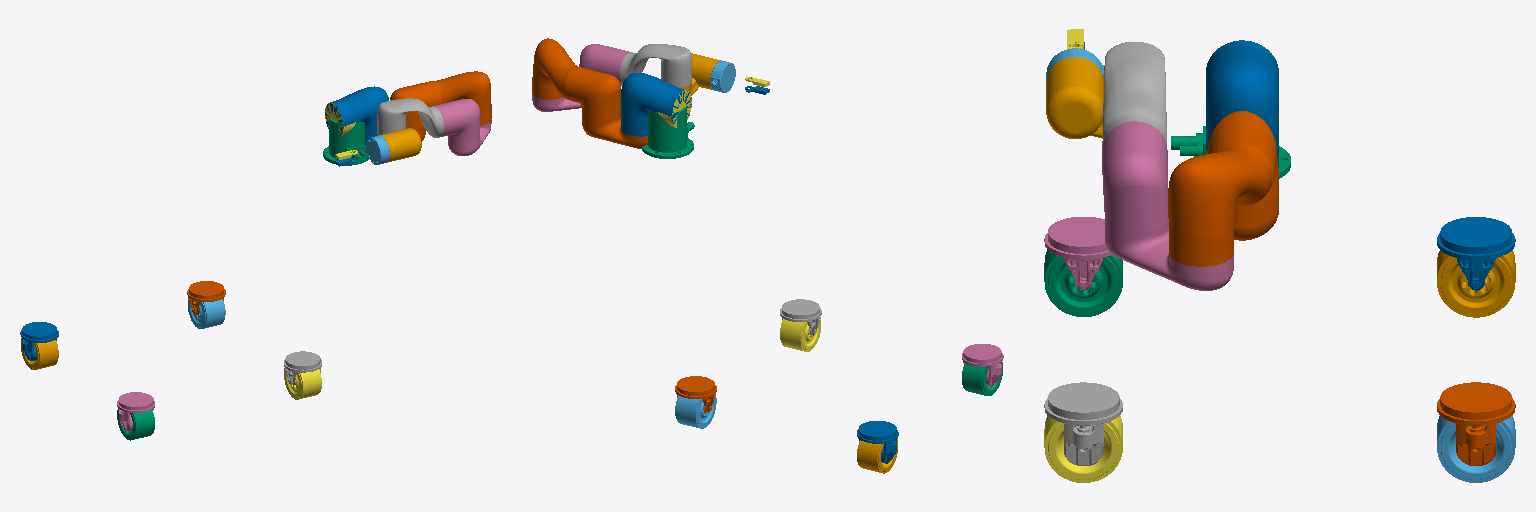
robot.urdf — mobile_base:
<?xml version="1.0"?>
<robot name="mobile_base">
  <link name="world"/>

  <joint name="world_to_base" type="fixed">
    <parent link="world"/>
    <child link="base_link"/>
    <origin xyz="0 0 0" rpy="0 3.14159265358979 0"/>
  </joint>

  <!-- =======================
       BASE + SHOULDER (fixed)
       ======================= -->
  <link name="base_link">
    <visual>
      <geometry>
        <mesh filename="package://new_base/meshes/custom_meshes/Chassis_1.stl" scale="1 1 1"/>
      </geometry>
    </visual>

    <collision>
      <origin xyz="0.0 0.0 0.35" rpy="0 0 0"/>
      <geometry><box size="0.5 0.4 0.7"/></geometry>
    </collision>

    <inertial>
      <origin xyz="0 0 0" rpy="0 0 0"/>
      <mass value="25.0"/> <inertia ixx="0.8" iyy="0.8" izz="0.8" ixy="0" ixz="0" iyz="0"/>
    </inertial>
  </link>

  <link name="arm_shoulder_4_2">
    <visual>
      <geometry>
        <mesh filename="package://new_base/meshes/custom_meshes/arm_shoulder_4_2.stl" scale="1 1 1"/>
      </geometry>
    </visual>

    <collision>
      <origin xyz="0.0 0.0 0.0" rpy="0 0 0"/>
      <geometry><box size="0.3 0.25 0.3"/></geometry>
    </collision>

    <inertial>
      <origin xyz="0 0 0" rpy="0 0 0"/>
      <mass value="5.0"/>
      <inertia ixx="0.1" iyy="0.1" izz="0.1" ixy="0" ixz="0" iyz="0"/>
    </inertial>
  </link>

    
  <link name="arm_shoulder_4_1">
    <visual>
      <geometry>
        <mesh filename="package://new_base/meshes/custom_meshes/arm_shoulder_4_1.stl" scale="1 1 1"/>
      </geometry>
    </visual>
    <collision>
      <origin xyz="0 0 0" rpy="0 0 0"/>
      <geometry>
        <box size="0.10 0.10 0.12"/>
      </geometry>
    </collision>
    <inertial>
      <origin xyz="0 0 0" rpy="0 0 0"/>
      <mass value="0.5"/>
      <inertia ixx="1e-3" iyy="1e-3" izz="1e-3" ixy="0" ixz="0" iyz="0"/>
    </inertial>
  </link>


  <!-- =======================
       AZIMUTH MODULES
       ======================= -->
  <link name="Az_Front_right_1">
    <visual>
      <geometry>
        <mesh filename="package://new_base/meshes/custom_meshes/Az_Front_right_1.stl" scale="1 1 1"/>
      </geometry>
    </visual>
    <collision>
      <origin xyz="0 0 0" rpy="0 0 0"/>
      <geometry><cylinder length="0.06" radius="0.05"/></geometry>
    </collision>
    <inertial>
      <origin xyz="0 0 0" rpy="0 0 0"/>
      <mass value="0.6"/>
      <inertia ixx="0.0003" iyy="0.0003" izz="0.0003" ixy="0" ixz="0" iyz="0"/>
    </inertial>
  </link>

  <link name="Az_Front_Left_1">
    <visual>
      <geometry>
        <mesh filename="../meshes/custom_meshes/Az_Front_Left_1.stl" scale="1 1 1"/>
      </geometry>
    </visual>
    <collision>
      <origin xyz="0 0 0" rpy="0 0 0"/>
      <geometry><cylinder length="0.06" radius="0.05"/></geometry>
    </collision>
    <inertial>
      <origin xyz="0 0 0" rpy="0 0 0"/>
      <mass value="0.6"/>
      <inertia ixx="0.0003" iyy="0.0003" izz="0.0003" ixy="0" ixz="0" iyz="0"/>
    </inertial>
  </link>

  <link name="Az_Back_Right_1">
    <visual>
      <geometry>
        <mesh filename="../meshes/custom_meshes/Az_Back_Right_1.stl" scale="1 1 1"/>
      </geometry>
    </visual>
    <collision>
      <origin xyz="0 0 0" rpy="0 0 0"/>
      <geometry><cylinder length="0.06" radius="0.05"/></geometry>
    </collision>
    <inertial>
      <origin xyz="0 0 0" rpy="0 0 0"/>
      <mass value="0.6"/>
      <inertia ixx="0.0003" iyy="0.0003" izz="0.0003" ixy="0" ixz="0" iyz="0"/>
    </inertial>
  </link>

  <link name="Az_Back_left_1">
    <visual>
      <geometry>
        <mesh filename="package://new_base/meshes/custom_meshes/Az_Back_left_1.stl" scale="1 1 1"/>
      </geometry>
    </visual>
    <collision>
      <origin xyz="0 0 0" rpy="0 0 0"/>
      <geometry><cylinder length="0.06" radius="0.05"/></geometry>
    </collision>
    <inertial>
      <origin xyz="0 0 0" rpy="0 0 0"/>
      <mass value="0.6"/>
      <inertia ixx="0.0003" iyy="0.0003" izz="0.0003" ixy="0" ixz="0" iyz="0"/>
    </inertial>
  </link>

  <!-- =======================
       WHEELS
       ======================= -->
  <link name="Wheel_Front_Right_1">
    <visual>
      <geometry>
        <mesh filename="../meshes/custom_meshes/Wheel_Front_Right_1.stl" scale="1 1 1"/>
      </geometry>
    </visual>
    <collision>
      <!-- Cylinder default axis is Z; rotate so spin axis is Y -->
      <origin xyz="0 0 0" rpy="1.5707963 0 0"/>
      <geometry><cylinder radius="0.06" length="0.04"/></geometry>
    </collision>
    <inertial>
      <origin xyz="0 0 0" rpy="0 0 0"/>
      <mass value="0.4"/>
      <inertia ixx="0.0002" iyy="0.0001" izz="0.0002" ixy="0" ixz="0" iyz="0"/>
    </inertial>
  </link>

  <link name="Wheel_Front_Left_1">
    <visual>
      <geometry>
        <mesh filename="../meshes/custom_meshes/Wheel_Front_Left_1.stl" scale="1 1 1"/>
      </geometry>
    </visual>
    <collision>
      <origin xyz="0 0 0" rpy="1.5707963 0 0"/>
      <geometry><cylinder radius="0.06" length="0.04"/></geometry>
    </collision>
    <inertial>
      <origin xyz="0 0 0" rpy="0 0 0"/>
      <mass value="0.4"/>
      <inertia ixx="0.0002" iyy="0.0001" izz="0.0002" ixy="0" ixz="0" iyz="0"/>
    </inertial>
  </link>

  <link name="Wheel_Back_Right_1">
    <visual>
      <geometry>
        <mesh filename="../meshes/custom_meshes/Wheel_Back_Right_1.stl" scale="1 1 1"/>
      </geometry>
    </visual>
    <collision>
      <origin xyz="0 0 0" rpy="1.5707963 0 0"/>
      <geometry><cylinder radius="0.06" length="0.04"/></geometry>
    </collision>
    <inertial>
      <origin xyz="0 0 0" rpy="0 0 0"/>
      <mass value="0.4"/>
      <inertia ixx="0.0002" iyy="0.0001" izz="0.0002" ixy="0" ixz="0" iyz="0"/>
    </inertial>
  </link>

  <link name="Wheel_Back_Left_1">
    <visual>
      <geometry>
        <mesh filename="../meshes/custom_meshes/Wheel_Back_Left_1.stl" scale="1 1 1"/>
      </geometry>
    </visual>
    <collision>
      <origin xyz="0 0 0" rpy="1.5707963 0 0"/>
      <geometry><cylinder radius="0.06" length="0.04"/></geometry>
    </collision>
    <inertial>
      <origin xyz="0 0 0" rpy="0 0 0"/>
      <mass value="0.4"/>
      <inertia ixx="0.0002" iyy="0.0001" izz="0.0002" ixy="0" ixz="0" iyz="0"/>
    </inertial>
  </link>

  <!-- =======================
       ARM CHAIN
       ======================= -->
  <link name="arm_shoulder241_1">
    <visual>
      <geometry>
        <mesh filename="../meshes/custom_meshes/arm_shoulder241_1.stl" scale="1 1 1"/>
      </geometry>
    </visual>
    <collision>
      <geometry><box size="0.08 0.08 0.12"/></geometry>
    </collision>
    <inertial>
      <origin xyz="0 0 0" rpy="0 0 0"/>
      <mass value="1.0"/>
      <inertia ixx="0.005" iyy="0.005" izz="0.005" ixy="0" ixz="0" iyz="0"/>
    </inertial>
  </link>

  <link name="arm_elbow_4_1">
    <visual>
      <geometry>
        <mesh filename="../meshes/custom_meshes/arm_elbow_4_1.stl" scale="1 1 1"/>
      </geometry>
    </visual>
    <collision>
      <geometry><box size="0.06 0.05 0.12"/></geometry>
    </collision>
    <inertial>
      <origin xyz="0 0 0" rpy="0 0 0"/>
      <mass value="0.8"/>
      <inertia ixx="0.0006" iyy="0.0006" izz="0.0006" ixy="0" ixz="0" iyz="0"/>
    </inertial>
  </link>

  <link name="elbow2_p4_1">
    <visual>
      <geometry>
        <mesh filename="package://new_base/meshes/custom_meshes/elbow2_p4_1.stl" scale="1 1 1"/>
      </geometry>
    </visual>
    <collision>
      <geometry><box size="0.06 0.05 0.12"/></geometry>
    </collision>
    <inertial>
      <origin xyz="0 0 0" rpy="0 0 0"/>
      <mass value="0.8"/>
      <inertia ixx="0.0006" iyy="0.0006" izz="0.0006" ixy="0" ixz="0" iyz="0"/>
    </inertial>
  </link>

  <link name="wrist_1_p4_1">
    <visual>
      <geometry>
        <mesh filename="package://new_base/meshes/custom_meshes/wrist_1_p4_1.stl" scale="1 1 1"/>
      </geometry>
    </visual>
    <collision>
      <geometry><box size="0.05 0.05 0.08"/></geometry>
    </collision>
    <inertial>
      <origin xyz="0 0 0" rpy="0 0 0"/>
      <mass value="0.5"/>
      <inertia ixx="0.0003" iyy="0.0003" izz="0.0003" ixy="0" ixz="0" iyz="0"/>
    </inertial>
  </link>

  <link name="wrist_2_p4_1">
    <visual>
      <geometry>
        <mesh filename="package://new_base/meshes/custom_meshes/wrist_2_p4_1.stl" scale="1 1 1"/>
      </geometry>
    </visual>
    <collision>
      <geometry><box size="0.05 0.05 0.08"/></geometry>
    </collision>
    <inertial>
      <origin xyz="0 0 0" rpy="0 0 0"/>
      <mass value="0.5"/>
      <inertia ixx="0.0003" iyy="0.0003" izz="0.0003" ixy="0" ixz="0" iyz="0"/>
    </inertial>
  </link>

  <link name="end_effector_p4_1">
    <visual>
      <geometry>
        <mesh filename="package://new_base/meshes/custom_meshes/end_effector_p4_1.stl" scale="1 1 1"/>
      </geometry>
    </visual>
    <collision>
      <geometry><box size="0.05 0.05 0.08"/></geometry>
    </collision>
    <inertial>
      <origin xyz="0 0 0" rpy="0 0 0"/>
      <mass value="0.4"/>
      <inertia ixx="0.0002" iyy="0.0002" izz="0.0002" ixy="0" ixz="0" iyz="0"/>
    </inertial>
  </link>

  <link name="gripper_v43_1">
    <visual>
      <geometry>
        <mesh filename="package://new_base/meshes/custom_meshes/gripper_v43_1.stl" scale="1 1 1"/>
      </geometry>
    </visual>
    <collision>
      <geometry><box size="0.05 0.05 0.08"/></geometry>
    </collision>
    <inertial>
      <origin xyz="0 0 0" rpy="0 0 0"/>
      <mass value="0.5"/>
      <inertia ixx="0.00025" iyy="0.00025" izz="0.00025" ixy="0" ixz="0" iyz="0"/>
    </inertial>
  </link>

  <link name="Finger_left_2">
    <visual>
      <geometry>
        <mesh filename="package://new_base/meshes/custom_meshes/Finger_left_2.stl" scale="1 1 1"/>
      </geometry>
    </visual>
    <collision>
      <geometry><box size="0.012 0.02 0.06"/></geometry>
    </collision>
    <inertial>
      <origin xyz="0 0 0" rpy="0 0 0"/>
      <mass value="0.05"/>
      <inertia ixx="1e-5" iyy="1e-5" izz="1e-5" ixy="0" ixz="0" iyz="0"/>
    </inertial>
  </link>

  <link name="Finger_right_2">
    <visual>
      <geometry>
        <mesh filename="package://new_base/meshes/custom_meshes/Finger_right_2.stl" scale="1 1 1"/>
      </geometry>
    </visual>
    <collision>
      <geometry><box size="0.012 0.02 0.06"/></geometry>
    </collision>
    <inertial>
      <origin xyz="0 0 0" rpy="0 0 0"/>
      <mass value="0.05"/>
      <inertia ixx="1e-5" iyy="1e-5" izz="1e-5" ixy="0" ixz="0" iyz="0"/>
    </inertial>
  </link>

  <!-- =======================
       JOINTS
       ======================= -->

  <!-- Steering (continuous, axis Z) -->
  <joint name="Revolute_2" type="continuous">
    <origin xyz="0.50615805 0.105825 0.63185791" rpy="3.1415927 0 1.5707963"/>
    <parent link="base_link"/>
    <child link="Az_Front_right_1"/>
    <axis xyz="0 0 1"/>
    <dynamics damping="0.05"/>
  </joint>

  <joint name="Revolute_1" type="continuous">
    <origin xyz="-0.0012486 0.105825 0.63125626" rpy="-3.1415927 0 1.5707963"/>
    <parent link="base_link"/>
    <child link="Az_Front_Left_1"/>
    <axis xyz="0 0 1"/>
    <dynamics damping="0.05"/>
  </joint>

  <joint name="Revolute_5" type="continuous">
    <origin xyz="0.5059564 -0.401584 0.63125626" rpy="-3.1415927 0 -1.5707963"/>
    <parent link="base_link"/>
    <child link="Az_Back_Right_1"/>
    <axis xyz="0 0 1"/>
    <dynamics damping="0.05"/>
  </joint>

  <joint name="Revolute_6" type="continuous">
    <origin xyz="-0.0014556 -0.401584 0.63125626" rpy="-3.1415927 0 -1.5707963"/>
    <parent link="base_link"/>
    <child link="Az_Back_left_1"/>
    <axis xyz="0 0 1"/>
    <dynamics damping="0.05"/>
  </joint>

  <joint name="Fastened_3" type="fixed">
    <parent link="base_link"/>
    <child link="arm_shoulder_4_2"/>
    <origin xyz="0.12 1.16 -0.211" rpy="0 1.5707963 0"/> 
    <dynamics dont_collapse="true"/>
  </joint>

  <joint name="Fastened_4" type="fixed">
    <origin xyz="-0.28094319 -1.3564931 -0.37430478" rpy="0 0 0"/>
    <parent link="arm_shoulder_4_2"/> 
    <child link="arm_shoulder_4_1"/>
    <dynamics dont_collapse="true"/>
  </joint>

  <!-- Arm joints: keep as-is unless you want me to re-derive axes -->
  <joint name="Revolute_9" type="revolute">
    <origin xyz="0 0 0.04" rpy="0 0 1.5707963"/>
    <parent link="arm_shoulder_4_1"/>
    <child link="arm_shoulder241_1"/>
    <axis xyz="0 0 -1"/>
    <limit effort="1" velocity="1" lower="-6.2831853" upper="6.2831853"/>
    <dynamics damping="0.02"/>
  </joint>

  <joint name="Revolute_10" type="revolute">
    <origin xyz="0 0.0775 -0.115" rpy="1.5707963 1.5707963 0"/>
    <parent link="arm_shoulder241_1"/>
    <child link="arm_elbow_4_1"/>
    <axis xyz="0 0 -1"/>
    <limit effort="1" velocity="1" lower="-6.2831853" upper="6.2831853"/>
    <dynamics damping="0.02"/>
  </joint>

  <joint name="Revolute_11" type="revolute">
    <origin xyz="0.28467 -0.05322 0.00817" rpy="0 0 0"/>
    <parent link="arm_elbow_4_1"/>
    <child link="elbow2_p4_1"/>
    <axis xyz="0 0 -1"/>
    <limit effort="1" velocity="1" lower="-6.2831853" upper="6.2831853"/>
    <dynamics damping="0.02"/>
  </joint>

  <joint name="Revolute_12" type="revolute">
    <origin xyz="-0.16933092 -0.08577945 0.06658" rpy="0 1.5707963 0"/>
    <parent link="elbow2_p4_1"/>
    <child link="wrist_1_p4_1"/>
    <axis xyz="0 0 -1"/>
    <limit effort="1" velocity="1" lower="-6.2831853" upper="6.2831853"/>
    <dynamics damping="0.02"/>
  </joint>

  <joint name="Revolute_13" type="revolute">
    <origin xyz="0.00000123 0.00000102 -0.13555" rpy="-1.5707963 0 1.5707963"/>
    <parent link="wrist_1_p4_1"/>
    <child link="wrist_2_p4_1"/>
    <axis xyz="0 0 -1"/>
    <limit effort="1" velocity="1" lower="-6.2831853" upper="6.2831853"/>
    <dynamics damping="0.02"/>
  </joint>

  <joint name="Revolute_14" type="revolute">
    <origin xyz="-0.07700037 0.07099971 0" rpy="1.5707963 0 0"/>
    <parent link="wrist_2_p4_1"/>
    <child link="end_effector_p4_1"/>
    <axis xyz="0 0 -1"/>
    <limit effort="1" velocity="1" lower="-6.2831853" upper="6.2831853"/>
    <dynamics damping="0.02"/>
  </joint>

  <!-- Gripper mount (fixed) -->
  <joint name="Fastened_1" type="fixed">
    <origin xyz="0 0 -0.028" rpy="0 0 1.5707963"/>
    <parent link="end_effector_p4_1"/>
    <child link="gripper_v43_1"/>
  </joint>

  <!-- Gripper sliders (prismatic ±X in joint frames) -->
  <joint name="Slider_1" type="prismatic">
    <origin xyz="0.012847465 -0.00034428038 -0.060041234" rpy="1.5707963 0 1.6231719"/>
    <parent link="gripper_v43_1"/>
    <child link="Finger_left_2"/>
    <axis xyz="1 0 0"/>
    <limit effort="30" velocity="0.2" lower="0.0" upper="0.03"/>
    <dynamics damping="30" friction="1.0"/>
  </joint>

  <joint name="Slider_3" type="prismatic">
    <origin xyz="-0.014905513 -0.0017991878 -0.060041234" rpy="-1.5707963 0 1.6231719"/>
    <parent link="gripper_v43_1"/>
    <child link="Finger_right_2"/>
    <axis xyz="-1 0 0"/>
    <limit effort="30" velocity="0.2" lower="-0.03" upper="0.0"/>
    <dynamics damping="30" friction="1.0"/>
  </joint>

  <!-- Wheel spin (continuous, axis Y) -->
  <joint name="Revolute_4" type="continuous">
    <origin xyz="0 -0.02301875 -0.05794375" rpy="-1.5707963 0 0"/>
    <parent link="Az_Front_right_1"/>
    <child link="Wheel_Front_Right_1"/>
    <axis xyz="0 1 0"/>
    <dynamics damping="0.02"/>
  </joint>

  <joint name="Revolute_3" type="continuous">
    <origin xyz="0 0.02301875 -0.05794375" rpy="-1.5707963 0 0"/>
    <parent link="Az_Front_Left_1"/>
    <child link="Wheel_Front_Left_1"/>
    <axis xyz="0 1 0"/>
    <dynamics damping="0.02"/>
  </joint>

  <joint name="Revolute_8" type="continuous">
    <origin xyz="0 0.02301875 -0.05794375" rpy="-1.5707963 0 0"/>
    <parent link="Az_Back_Right_1"/>
    <child link="Wheel_Back_Right_1"/>
    <axis xyz="0 1 0"/>
    <dynamics damping="0.02"/>
  </joint>

  <joint name="Revolute_7" type="continuous">
    <origin xyz="0 -0.02301875 -0.05794375" rpy="1.5707963 0 0"/>
    <parent link="Az_Back_left_1"/>
    <child link="Wheel_Back_Left_1"/>
    <axis xyz="0 1 0"/>
    <dynamics damping="0.02"/>
  </joint>

</robot>

--- Render facts (derived) ---
Views: 3 orthographic renders of the robot side by side, from view 1: azimuth 30°, elevation 25°; view 2: azimuth 150°, elevation 25°; view 3: azimuth 270°, elevation 25°.
Robot: mobile_base — 21 links, 20 joints (6 revolute, 8 continuous, 2 prismatic, 4 fixed); root link world; default pose: every joint at zero.
Visible links, largest first — view 1: arm_elbow_4_1, elbow2_p4_1, wrist_1_p4_1, arm_shoulder241_1, arm_shoulder_4_2, wrist_2_p4_1, Az_Front_right_1, Az_Back_Right_1, Wheel_Back_Left_1, Az_Back_left_1, Az_Front_Left_1, Wheel_Front_Left_1 (+3 smaller); view 2: arm_elbow_4_1, arm_shoulder241_1, wrist_1_p4_1, arm_shoulder_4_2, elbow2_p4_1, Az_Front_right_1, Az_Back_Right_1, Wheel_Front_Left_1, Wheel_Back_Left_1, Az_Front_Left_1, Az_Back_left_1, Wheel_Front_Right_1 (+3 smaller); view 3: arm_elbow_4_1, elbow2_p4_1, arm_shoulder241_1, wrist_1_p4_1, Az_Front_Left_1, Az_Back_left_1, wrist_2_p4_1, Az_Front_right_1, Wheel_Front_Right_1, Wheel_Back_Right_1, Az_Back_Right_1, Wheel_Front_Left_1 (+2 smaller).
Boxes of the visible links, x1=… form: arm_elbow_4_1: x1=366, y1=71, x2=491, y2=152; elbow2_p4_1: x1=435, y1=99, x2=491, y2=155; wrist_1_p4_1: x1=377, y1=98, x2=443, y2=137; arm_shoulder241_1: x1=325, y1=86, x2=388, y2=144; arm_shoulder_4_2: x1=323, y1=117, x2=369, y2=165; wrist_2_p4_1: x1=377, y1=128, x2=421, y2=162; Az_Front_right_1: x1=20, y1=322, x2=58, y2=360; Az_Back_Right_1: x1=117, y1=392, x2=154, y2=431; Wheel_Back_Left_1: x1=284, y1=368, x2=321, y2=399; Az_Back_left_1: x1=284, y1=351, x2=321, y2=384; Az_Front_Left_1: x1=187, y1=281, x2=225, y2=314; Wheel_Front_Left_1: x1=188, y1=297, x2=225, y2=328; arm_elbow_4_1: x1=532, y1=38, x2=647, y2=148; arm_shoulder241_1: x1=621, y1=73, x2=691, y2=136; wrist_1_p4_1: x1=620, y1=44, x2=691, y2=87; arm_shoulder_4_2: x1=642, y1=106, x2=694, y2=158; elbow2_p4_1: x1=532, y1=44, x2=629, y2=111; Az_Front_right_1: x1=857, y1=421, x2=898, y2=463; Az_Back_Right_1: x1=962, y1=344, x2=1003, y2=386; Wheel_Front_Left_1: x1=675, y1=393, x2=716, y2=428; Wheel_Back_Left_1: x1=780, y1=317, x2=820, y2=351; Az_Front_Left_1: x1=675, y1=376, x2=716, y2=412; Az_Back_left_1: x1=780, y1=299, x2=821, y2=335; Wheel_Front_Right_1: x1=857, y1=438, x2=897, y2=473; arm_elbow_4_1: x1=1168, y1=111, x2=1278, y2=266; elbow2_p4_1: x1=1102, y1=121, x2=1233, y2=290; arm_shoulder241_1: x1=1206, y1=40, x2=1278, y2=167; wrist_1_p4_1: x1=1102, y1=42, x2=1166, y2=146; Az_Front_Left_1: x1=1437, y1=382, x2=1515, y2=465; Az_Back_left_1: x1=1044, y1=382, x2=1122, y2=465; wrist_2_p4_1: x1=1046, y1=57, x2=1103, y2=138; Az_Front_right_1: x1=1437, y1=217, x2=1515, y2=290; Wheel_Front_Right_1: x1=1437, y1=250, x2=1515, y2=317; Wheel_Back_Right_1: x1=1044, y1=249, x2=1122, y2=316; Az_Back_Right_1: x1=1044, y1=217, x2=1111, y2=289; Wheel_Front_Left_1: x1=1437, y1=415, x2=1515, y2=482.
Bounding box of the posed robot: 1.21 × 0.609 × 0.7496 m (x, y, z).
Meshes: 20 distinct files referenced, 18 mesh visuals loaded (18 binary STL); not drawn: 2 (reference not matched to a file when rendering).
